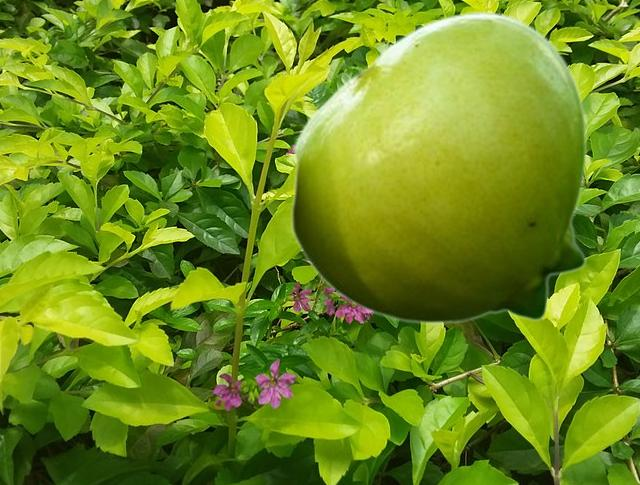guava: (289, 10, 587, 323)
